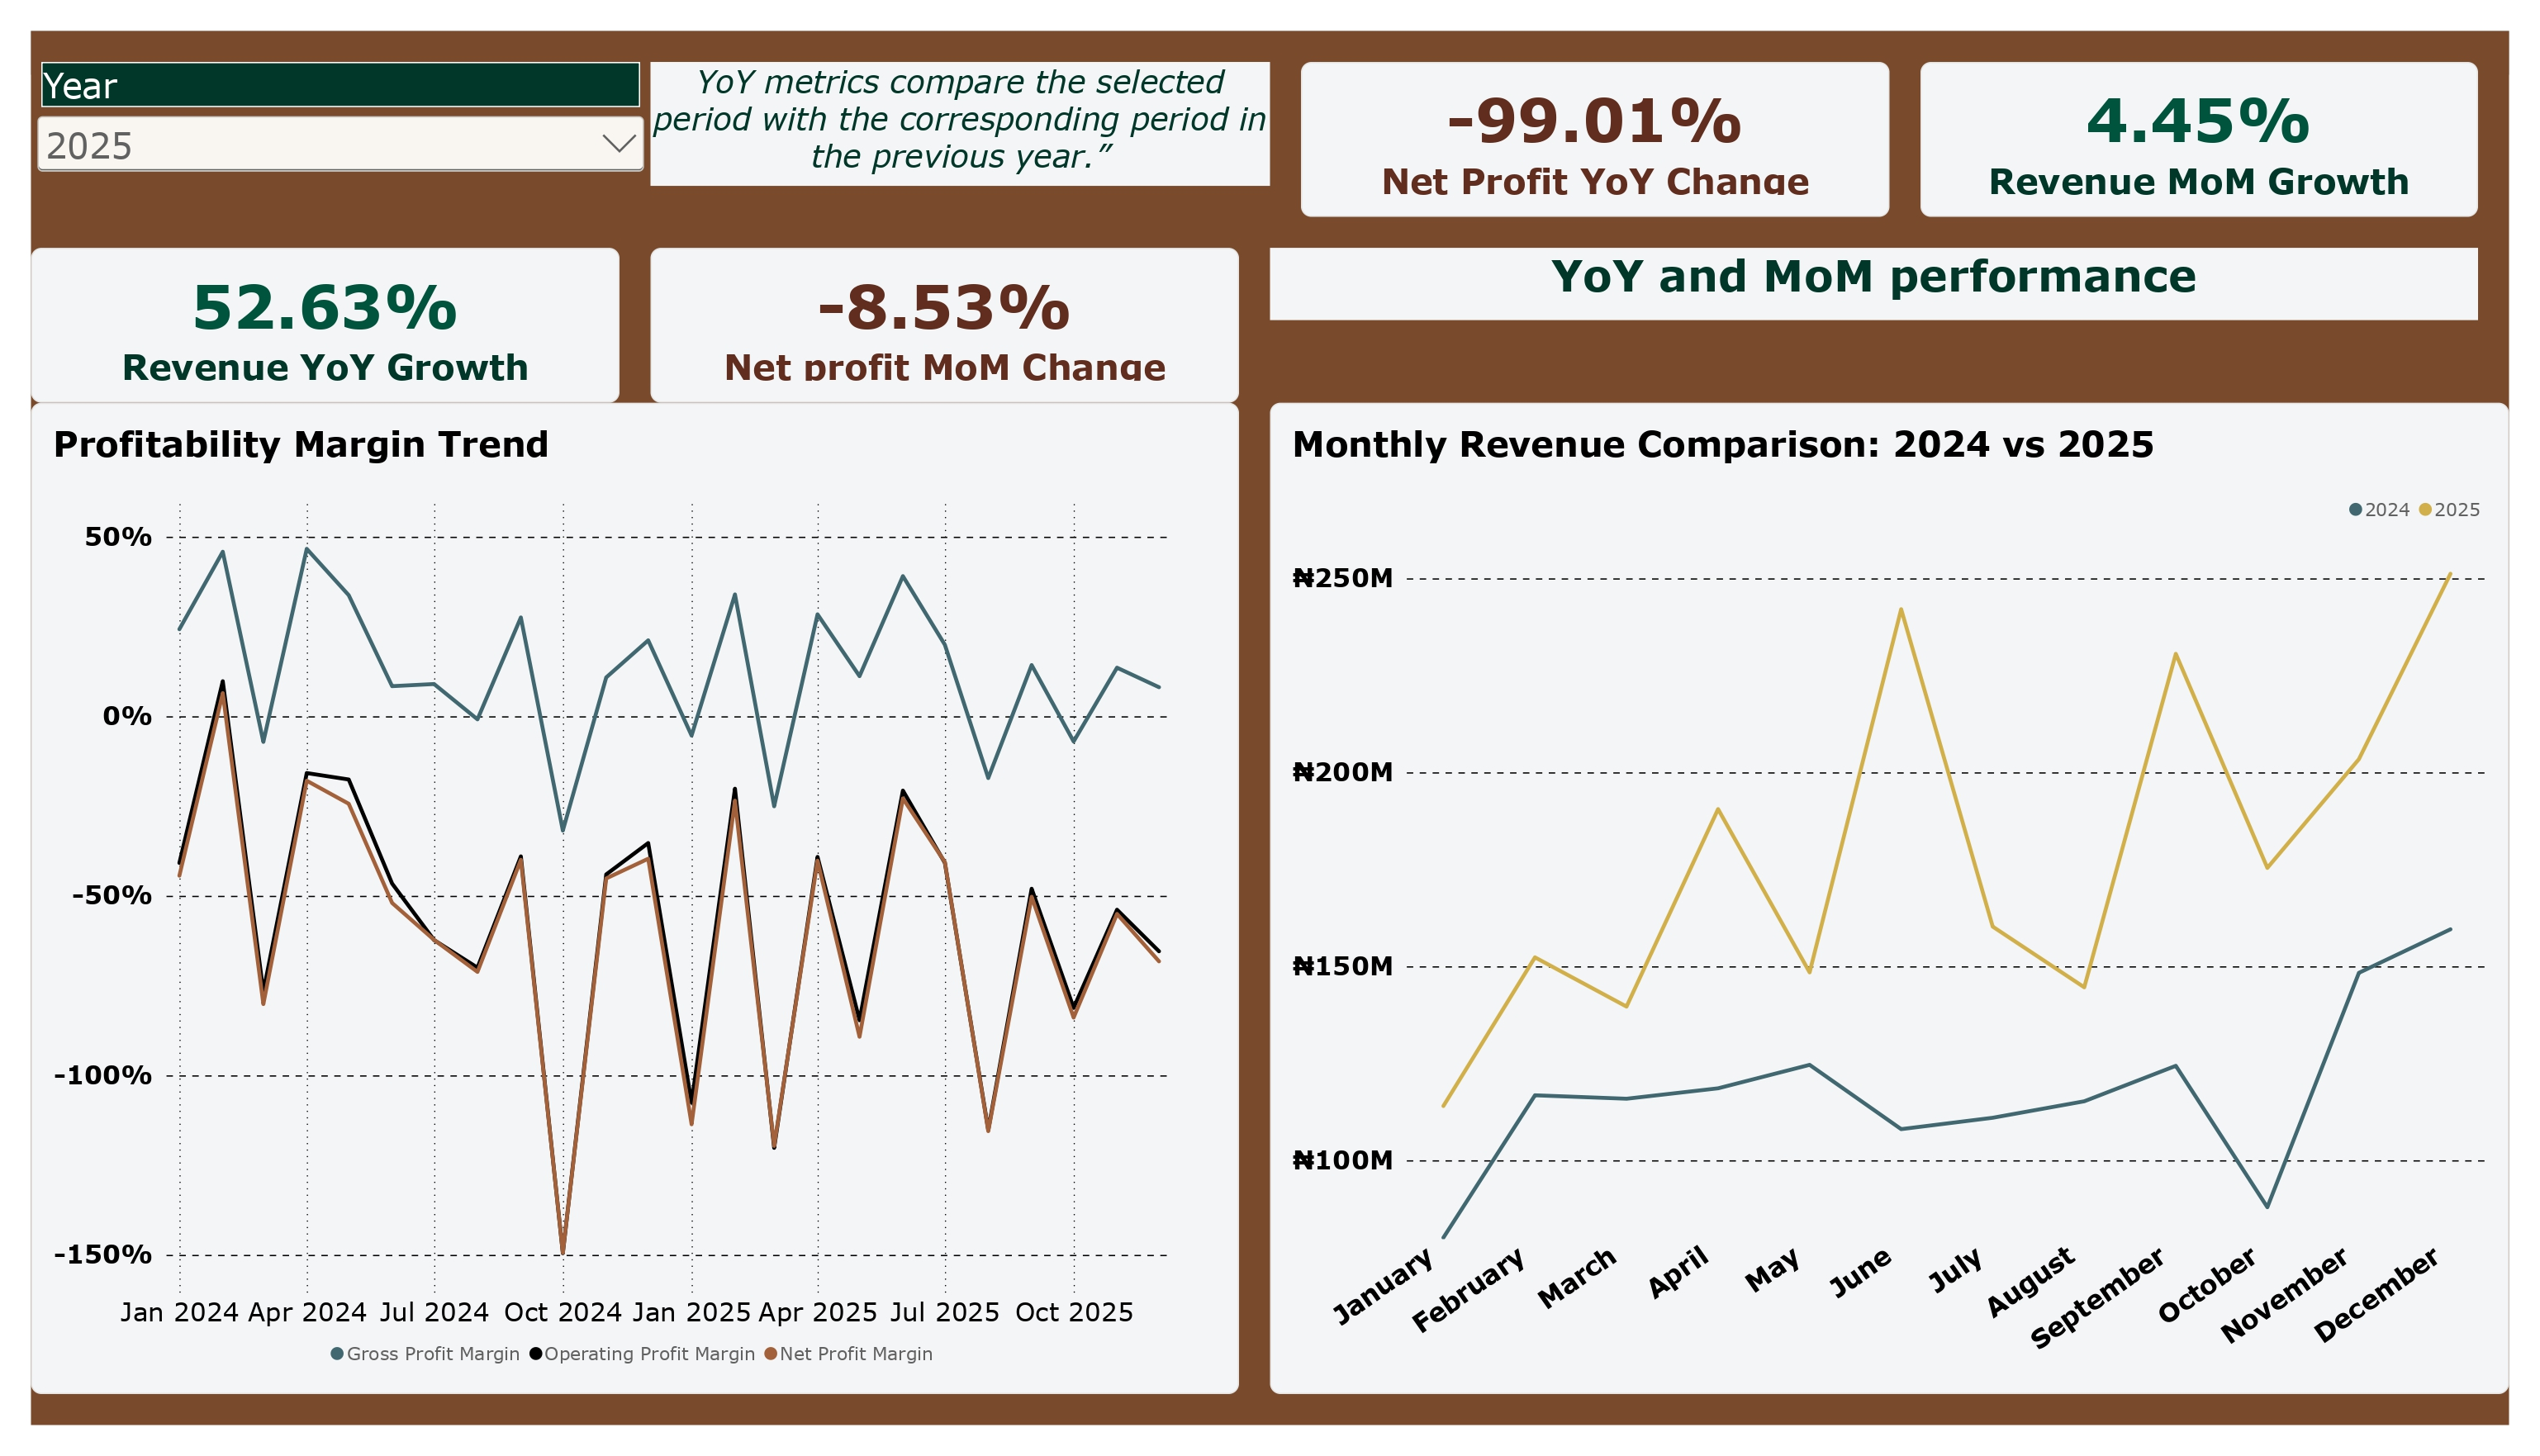

What the dashboard file says about the page in this screenshot:
{"tool":"powerbi","page":{"name":"Financial Performance","canvas":[1920,1080],"ordinal":2},"visuals":[{"type":"lineChart","title":"Monthly Revenue Comparison: 2024 vs 2025","fields":{"Category":["Date.Month"],"Series":["Date.Year"],"Y":["Dax Measures.Total Revenue"]},"box":[960,288,960,768],"z":0},{"type":"card","fields":{"Values":["Dax Measures.Net profit MoM Growth %"]},"box":[480,168,456,120],"z":1000},{"type":"card","fields":{"Values":["Dax Measures.Revenue MoM Growth %"]},"box":[1464,24,432,120],"z":2000},{"type":"card","fields":{"Values":["Dax Measures.Net Profit YoY Growth %"]},"box":[984,24,456,120],"z":3000},{"type":"card","fields":{"Values":["Dax Measures.Revenue YoY Growth %"]},"box":[0,168,456,120],"z":4000},{"type":"textbox","title":"YoY and MoM performance","box":[960,168,936,96],"z":5000},{"type":"lineChart","title":"Profitability Margin Trend","fields":{"Category":["Date.Year-Month"],"Y":["Dax Measures.Gross Profit Margin","Dax Measures.Operating Profit Margin","Dax Measures.Net Profit Margin"]},"box":[0,288,936,768],"z":6000},{"type":"slicer","fields":{"Values":["Date.Year"]},"box":[0,24,480,120],"z":7000},{"type":"textbox","title":"YoY metrics compare the selected period with the corresponding period in the previous year.”","box":[480,24,480,96],"z":8000}]}

Visuals, with their boxes on the page's 1920x1080 design canvas (x1, y1, x2, y2). These are canvas units, not pixel positions in the 2540x1456 screenshot, which may show the page scaled, cropped or inside an application window:
"Monthly Revenue Comparison: 2024 vs 2025" lineChart: Rect(960, 288, 1920, 1056)
card - Dax Measures.Net profit MoM Growth %: Rect(480, 168, 936, 288)
card - Dax Measures.Revenue MoM Growth %: Rect(1464, 24, 1896, 144)
card - Dax Measures.Net Profit YoY Growth %: Rect(984, 24, 1440, 144)
card - Dax Measures.Revenue YoY Growth %: Rect(0, 168, 456, 288)
"YoY and MoM performance" textbox: Rect(960, 168, 1896, 264)
"Profitability Margin Trend" lineChart: Rect(0, 288, 936, 1056)
slicer - Date.Year: Rect(0, 24, 480, 144)
"YoY metrics compare the selected period with the corresponding period in the previous year.”" textbox: Rect(480, 24, 960, 120)
